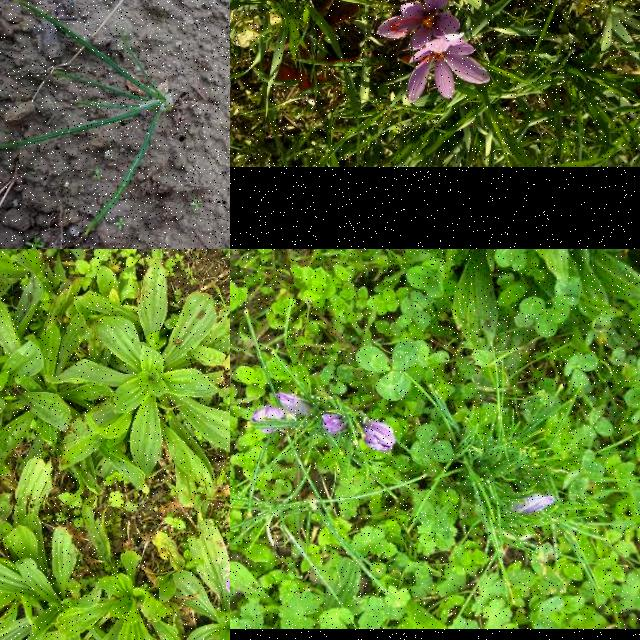flower: (406, 40, 492, 104), (377, 0, 463, 50), (363, 422, 397, 452), (512, 494, 556, 514), (320, 414, 350, 434)
overlap: (252, 392, 312, 436)
